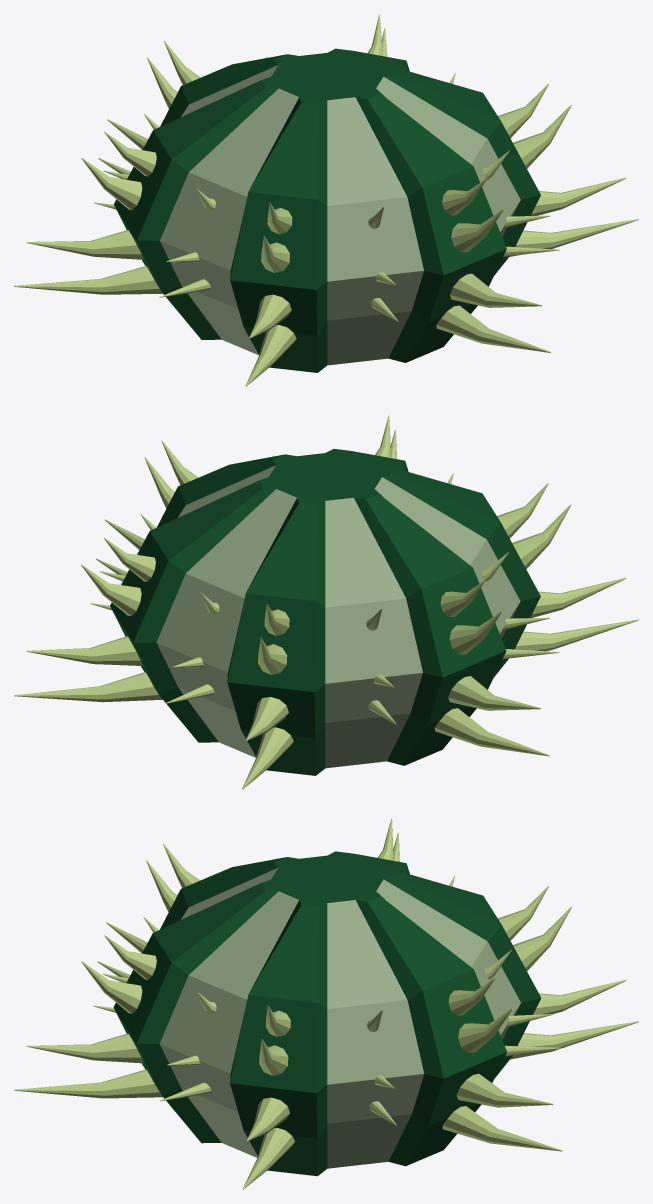
The model's file is Ball_Cactus_Stack.fbx.
3 views of the same model, one above another, from view 1: azimuth 30°, elevation 25°; view 2: azimuth 150°, elevation 25°; view 3: azimuth 270°, elevation 25° (orthographic).
Visible parts, largest first — view 1: Ball_Cactus_Stack; view 2: Ball_Cactus_Stack; view 3: Ball_Cactus_Stack.
Boxes of the visible parts, left/top/right/bottom form: Ball_Cactus_Stack: left=14, top=14, right=638, bottom=386; Ball_Cactus_Stack: left=14, top=415, right=638, bottom=789; Ball_Cactus_Stack: left=14, top=818, right=638, bottom=1189.
Size of the model in its own units: 2.07 by 2.08 by 0.8732.
